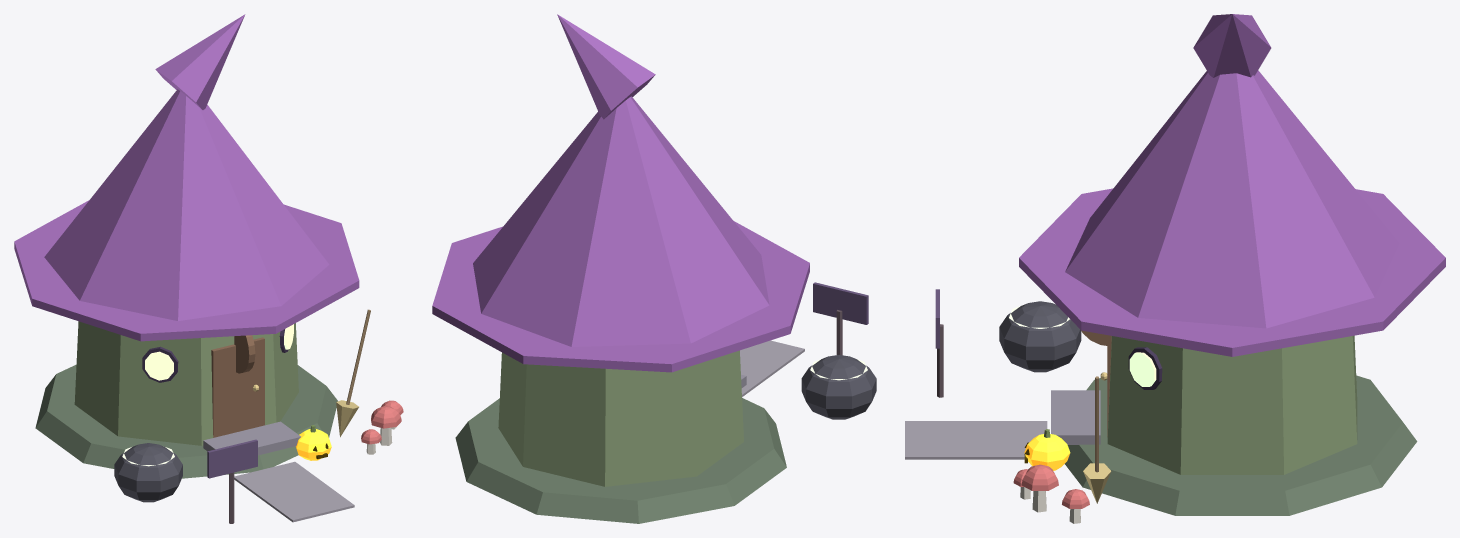
Rendered from witch_hut.glb.
The picture shows the model from 3 angles, left to right: view 1: azimuth 30°, elevation 25°; view 2: azimuth 150°, elevation 25°; view 3: azimuth 270°, elevation 25°; orthographic projection. The views are drawn at different scales.
Visible parts, largest first — view 1: WitchHut, Door; view 2: WitchHut; view 3: WitchHut.
Part boxes in pixels (x1=…): WitchHut: x1=14, y1=14, x2=403, y2=523; Door: x1=211, y1=337, x2=264, y2=437; WitchHut: x1=432, y1=14, x2=876, y2=523; WitchHut: x1=905, y1=14, x2=1445, y2=523.
Bounding box in the file's own units: 6 × 7.26 × 7.6.
